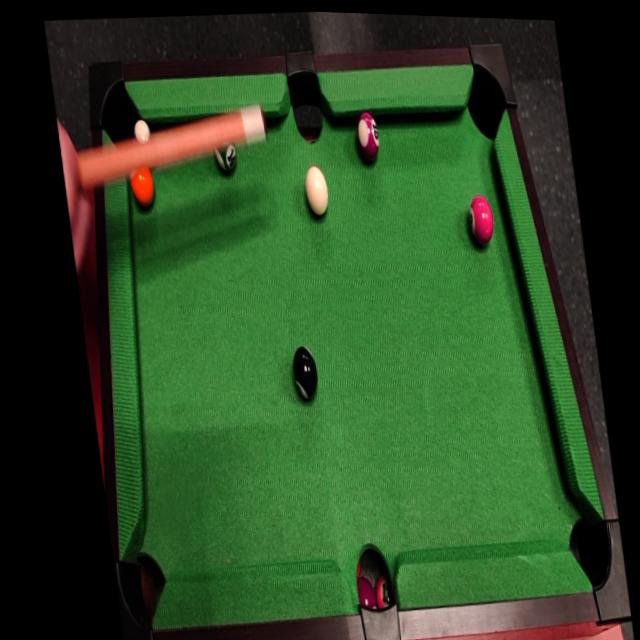cue ball: (300, 158, 334, 224)
other: (289, 340, 323, 403), (123, 159, 159, 214), (465, 191, 496, 252), (351, 106, 384, 163), (208, 134, 242, 179)
